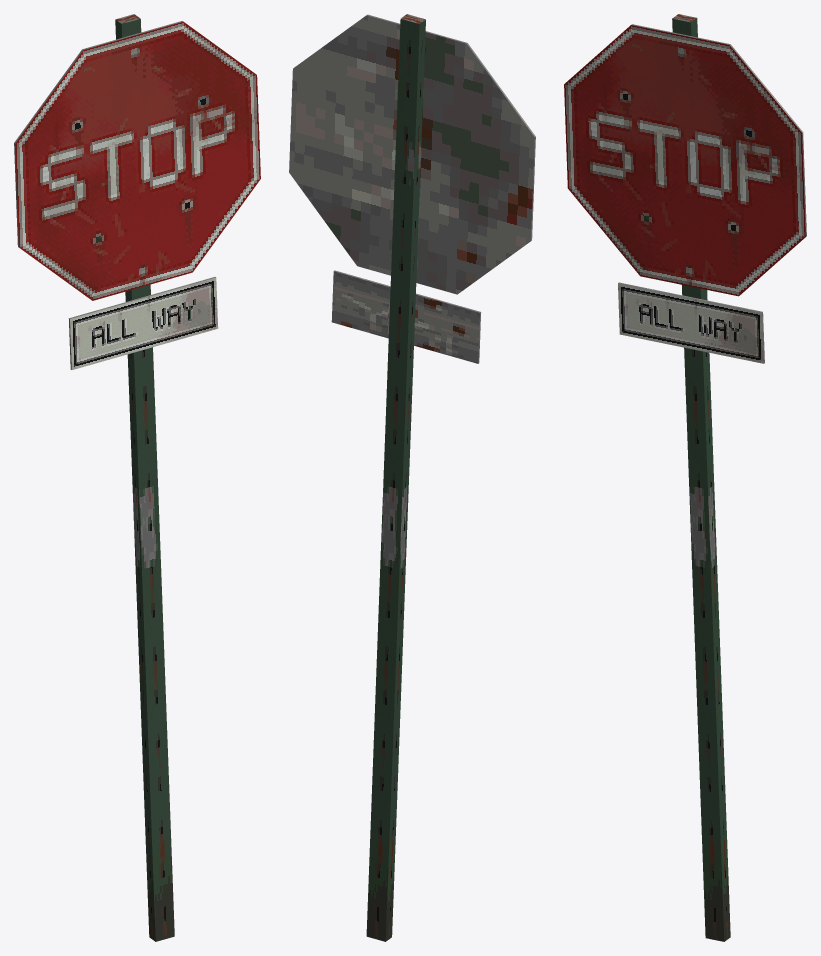
File: sign_road.glb
The picture shows the model from 3 angles, left to right: view 1: azimuth 30°, elevation 25°; view 2: azimuth 150°, elevation 25°; view 3: azimuth 330°, elevation 25°; orthographic projection.
Parts seen in each view (by area): view 1: sign_road; view 2: sign_road; view 3: sign_road.
Part boxes in pixels (left/top/right/bottom): sign_road: left=14, top=14, right=260, bottom=941; sign_road: left=289, top=14, right=535, bottom=941; sign_road: left=564, top=14, right=806, bottom=941.
Size of the model in its own units: 0.7715 by 2.78 by 0.044.
1 material, 1 textured.
